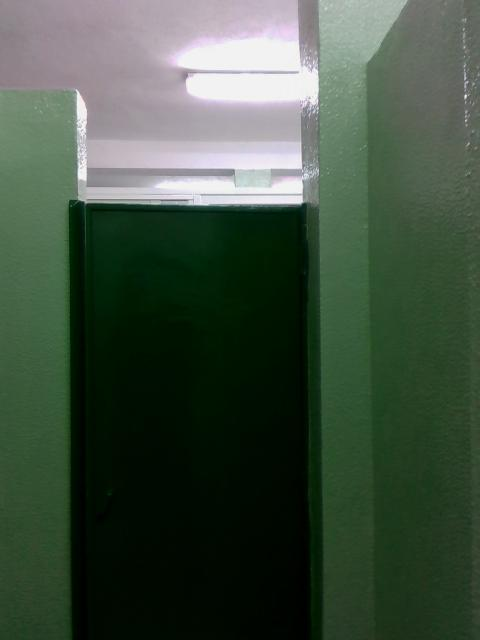closed_door: (67, 198, 320, 639)
